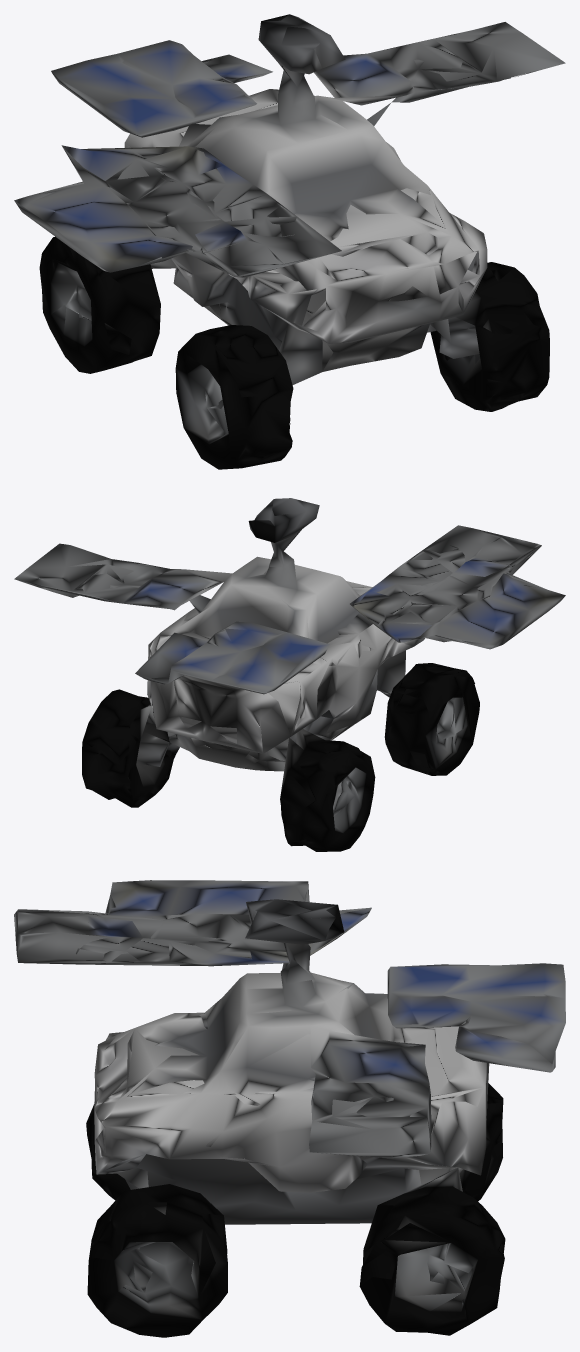
The model's file is gen3d-planet-rover-lod0.glb.
3 views of the same model, one above another, from view 1: azimuth 30°, elevation 25°; view 2: azimuth 150°, elevation 25°; view 3: azimuth 270°, elevation 25° (orthographic). The views are drawn at different scales.
Parts seen in each view (by area): view 1: part_0; view 2: part_0; view 3: part_0.
Part boxes in pixels (x1,y1,x2,y2): part_0: (14,14,565,469); part_0: (14,498,565,851); part_0: (14,880,565,1337).
Size of the model in its own units: 1.64 by 0.9882 by 1.39.
